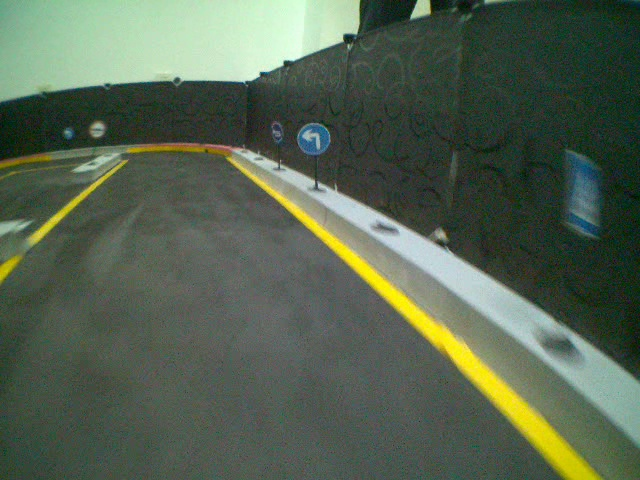Check: (88, 119, 108, 142)
horn: (266, 119, 285, 147)
turn: (296, 118, 335, 160)
